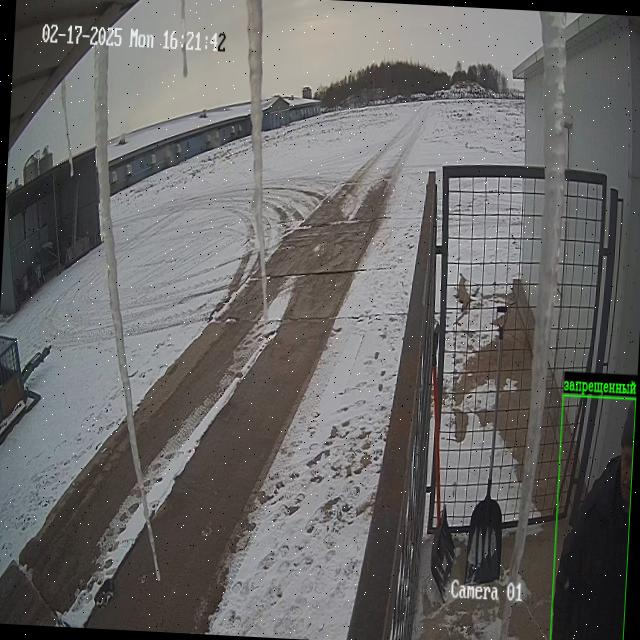Person: (552, 406, 635, 640)
